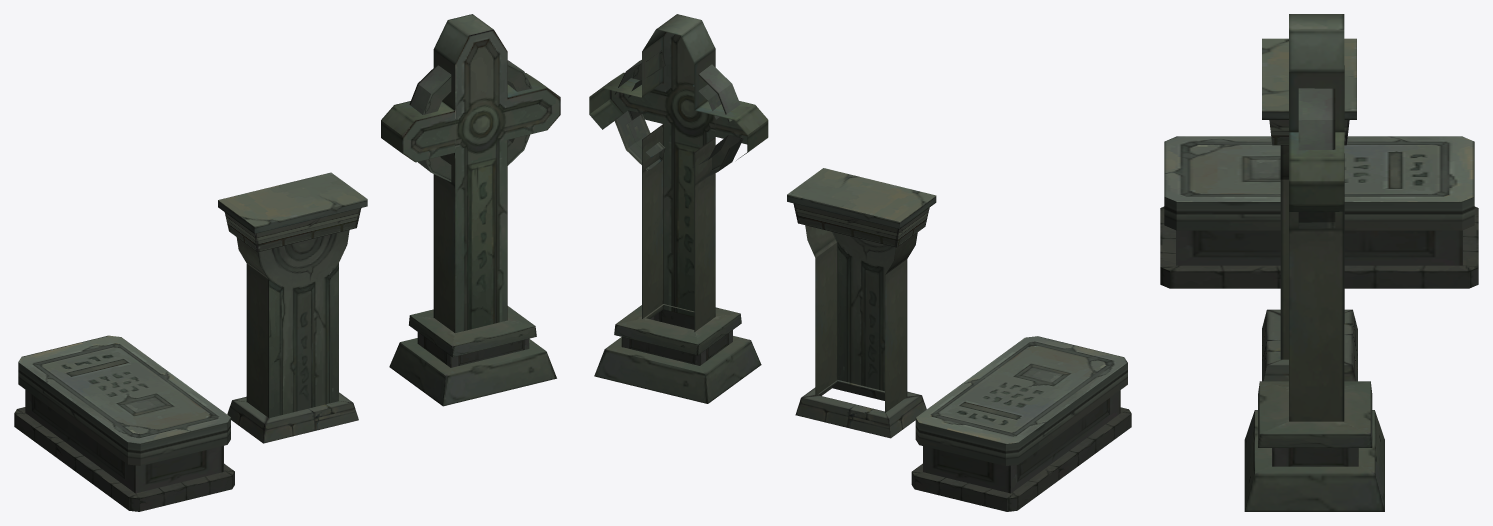
File: 2_ChengZhen_MuBei_01.FBX
3 views of the same model, side by side, from view 1: azimuth 30°, elevation 25°; view 2: azimuth 150°, elevation 25°; view 3: azimuth 270°, elevation 25° (orthographic). The views are drawn at different scales.
Parts seen in each view (by area): view 1: 2_ChengZhen_MuBei_01_03, 2_ChengZhen_MuBei_01_02, 2_ChengZhen_MuBei_01_01; view 2: 2_ChengZhen_MuBei_01_03, 2_ChengZhen_MuBei_01_01, 2_ChengZhen_MuBei_01_02; view 3: 2_ChengZhen_MuBei_01_01, 2_ChengZhen_MuBei_01_03, 2_ChengZhen_MuBei_01_02.
Boxes of the visible parts, x1,y1,x2,y2 form: 2_ChengZhen_MuBei_01_03: [381, 14, 560, 406]; 2_ChengZhen_MuBei_01_02: [218, 172, 367, 443]; 2_ChengZhen_MuBei_01_01: [14, 335, 234, 511]; 2_ChengZhen_MuBei_01_03: [589, 14, 768, 403]; 2_ChengZhen_MuBei_01_01: [911, 336, 1131, 511]; 2_ChengZhen_MuBei_01_02: [787, 168, 936, 438]; 2_ChengZhen_MuBei_01_01: [1160, 136, 1478, 288]; 2_ChengZhen_MuBei_01_03: [1244, 14, 1384, 511]; 2_ChengZhen_MuBei_01_02: [1262, 38, 1357, 381].
Bounding box in the file's own units: 766 × 534 × 340.
